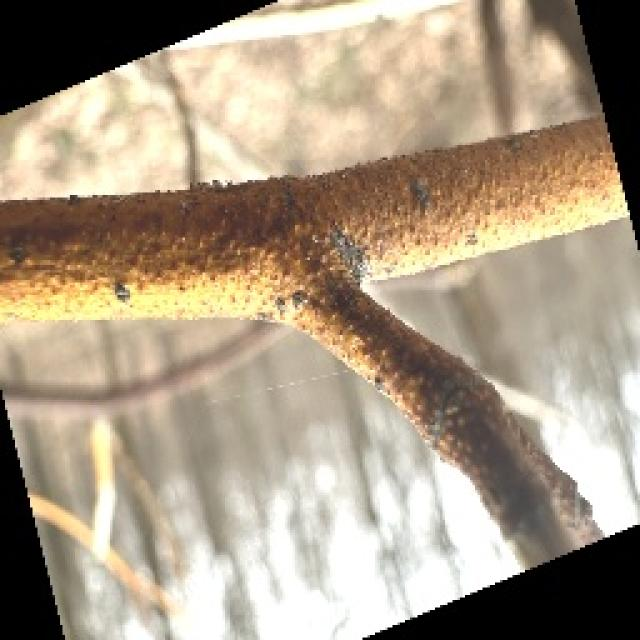Golden_canker: (0, 103, 640, 572)
